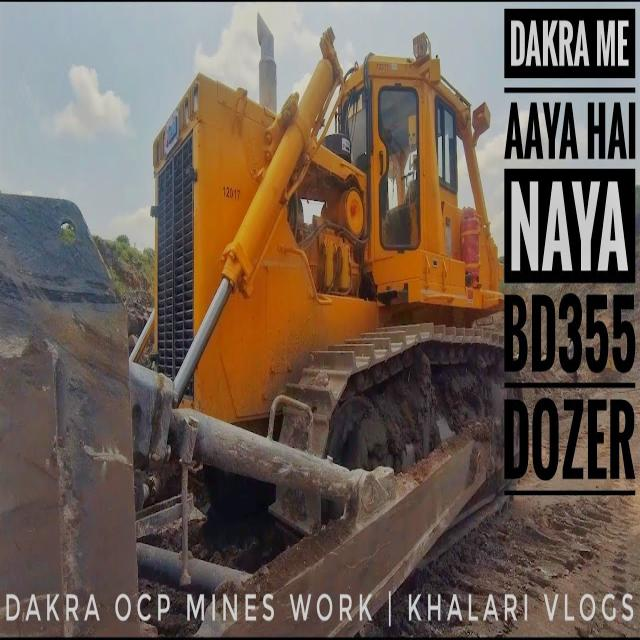buldozerpayloadergrader: (3, 25, 512, 599)
